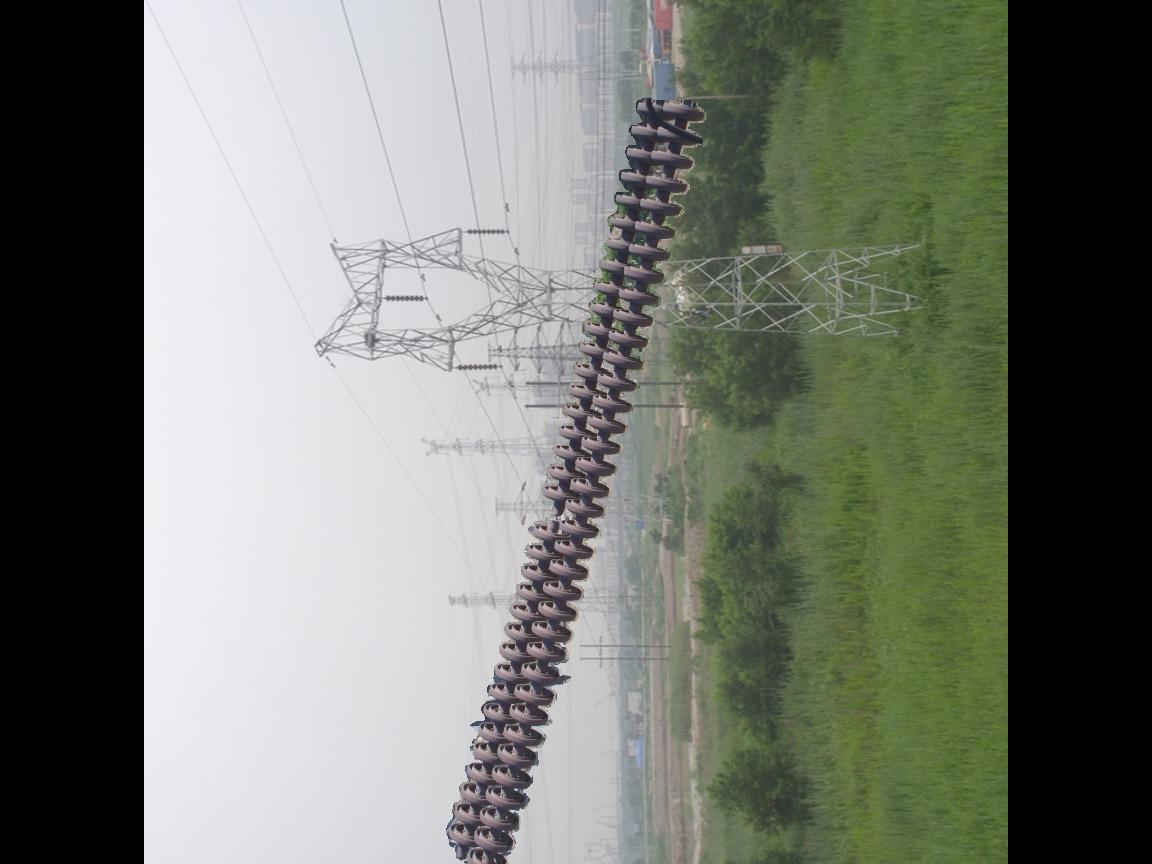insulator: (443, 91, 709, 864), (379, 291, 429, 308), (453, 359, 504, 375), (463, 223, 512, 238)
insulator_stringdrop: (523, 481, 579, 543)
